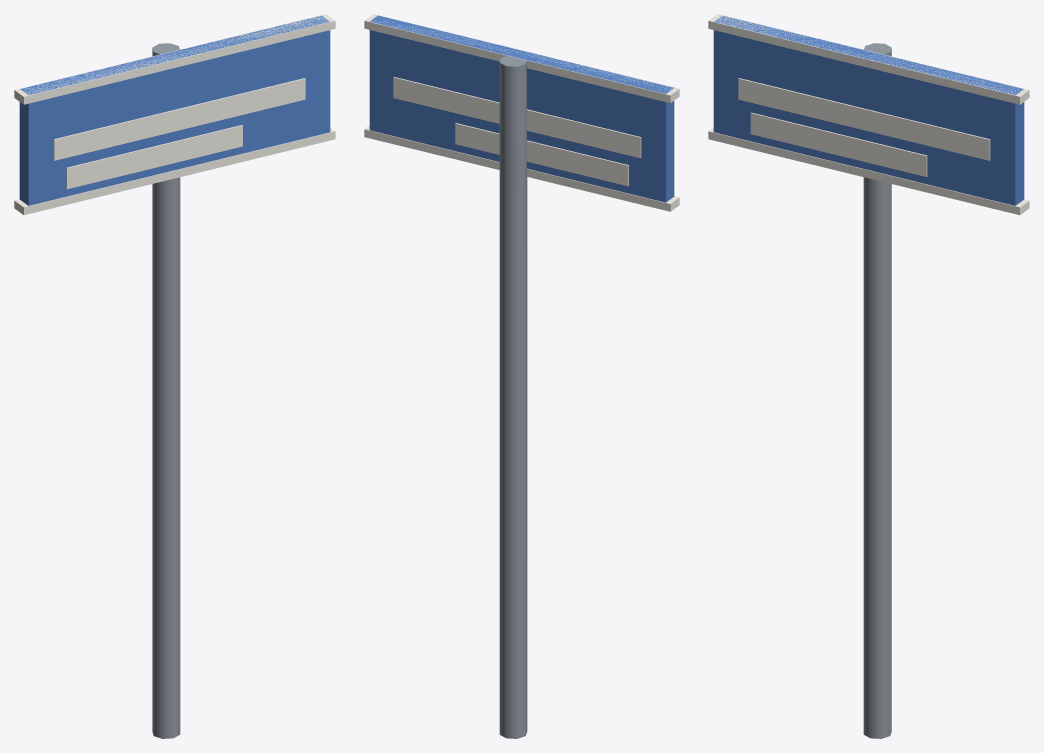
File: sign-01.glb
3 views of the same model, side by side, from view 1: azimuth 30°, elevation 25°; view 2: azimuth 150°, elevation 25°; view 3: azimuth 330°, elevation 25° (orthographic).
Parts seen in each view (by area): view 1: Board, Post; view 2: Board, Post; view 3: Board, Post.
Part boxes in pixels (<box>): Board: <box>14,14,335,215</box>; Post: <box>152,43,180,738</box>; Board: <box>364,14,679,211</box>; Post: <box>499,56,527,738</box>; Board: <box>708,14,1029,215</box>; Post: <box>863,43,891,738</box>.
Size of the model in its own units: 1.24 by 2.6 by 0.145.
